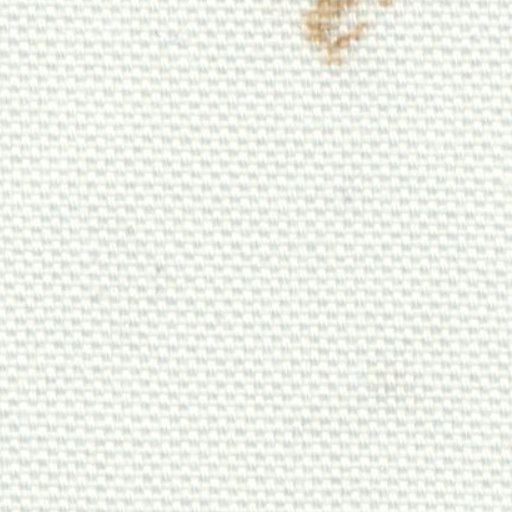WuZi: (296, 2, 389, 86)
